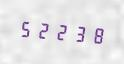eight: (86, 22, 102, 47)
five: (18, 16, 34, 41)
three: (69, 20, 85, 45)
two: (35, 17, 51, 43), (52, 19, 68, 44)
